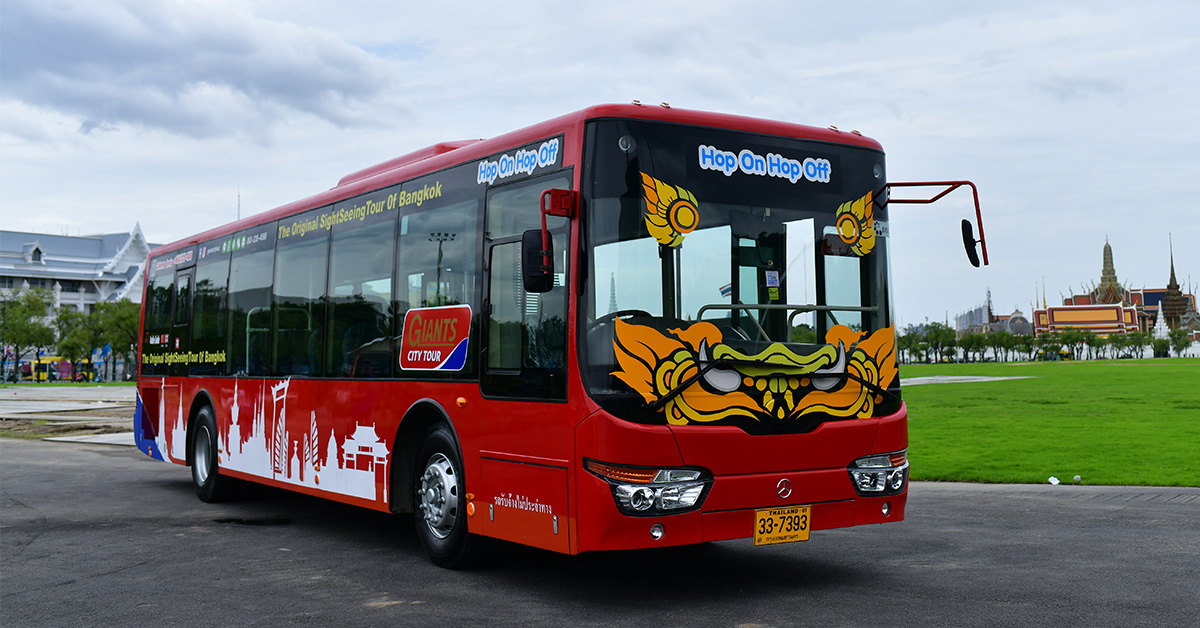bus: (128, 102, 913, 568)
